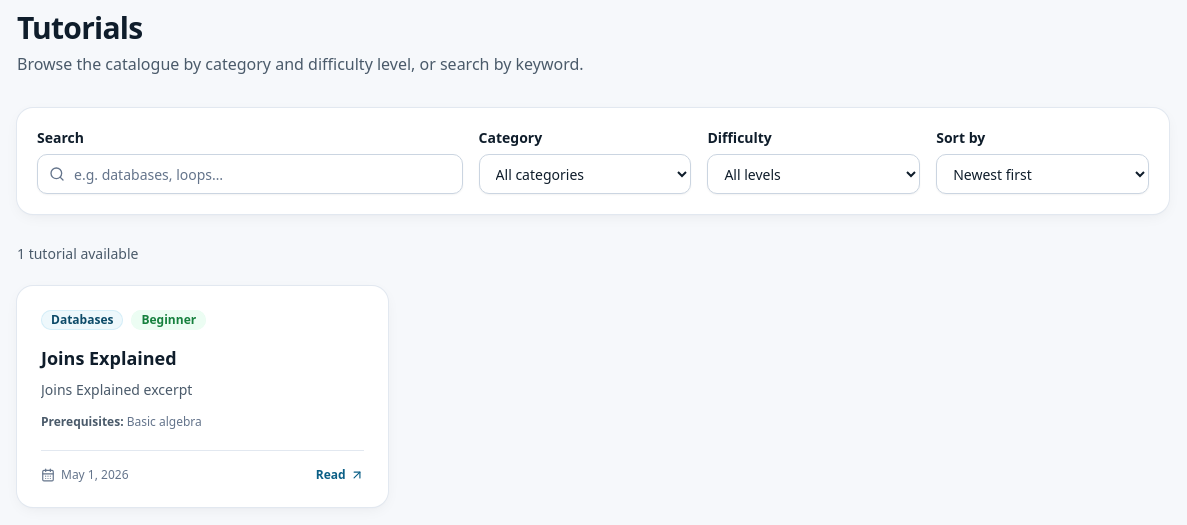
Test: CatalogPage › applies the category filter through the URL and requests filtered data
Expected: the link "Joins Explained" is shown, x1=41 y1=346 x2=177 y2=370
Select "Databases" in the dropdown labelled "Category" at point(585, 174), box x1=479 y1=154 x2=691 y2=194
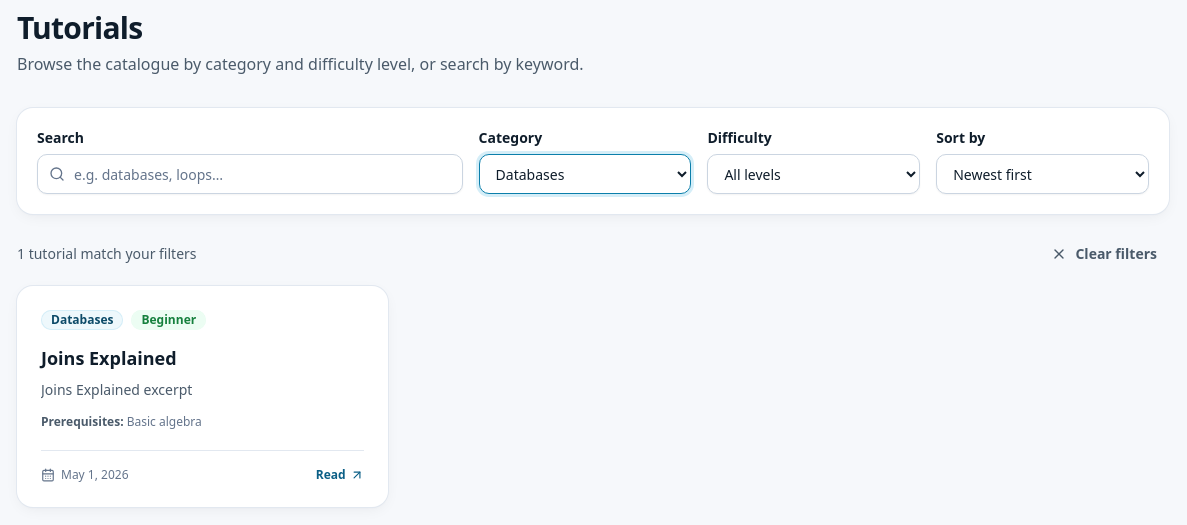
Expected: the button "Clear filters" is shown, x1=1040 y1=238 x2=1169 y2=270
